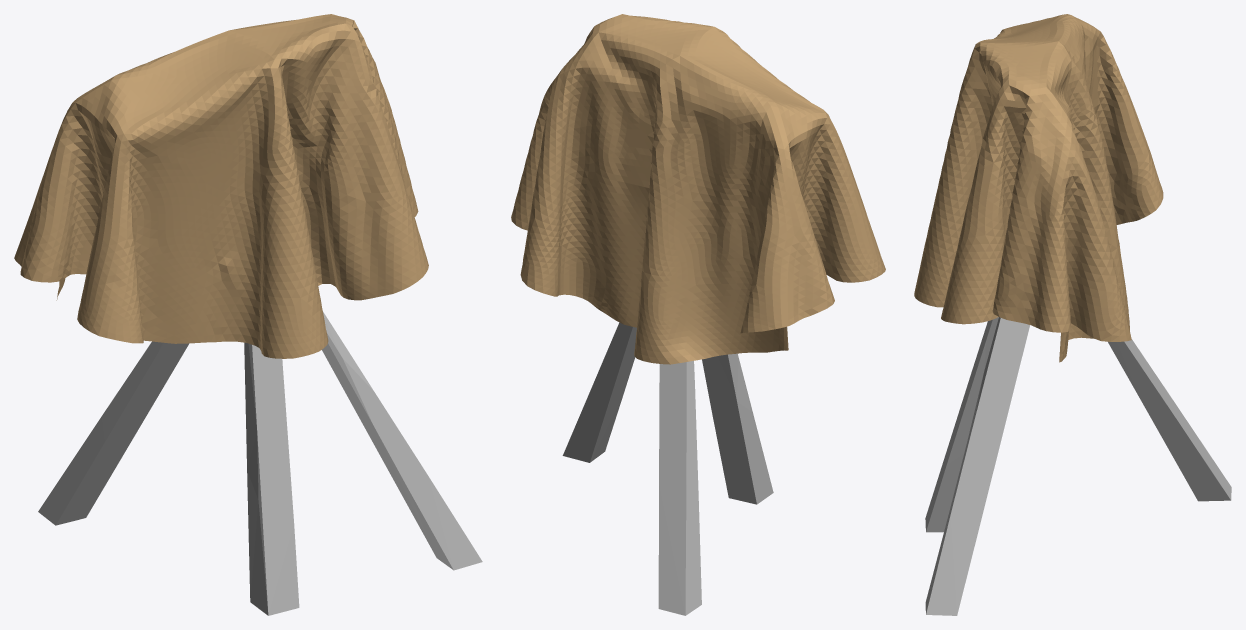
File: level_2.glb
3 views of the same model, side by side, from view 1: azimuth 30°, elevation 25°; view 2: azimuth 150°, elevation 25°; view 3: azimuth 270°, elevation 25° (orthographic). The views are drawn at different scales.
Parts seen in each view (by area): view 1: world, object.obj; view 2: world, object.obj; view 3: world, object.obj.
Part boxes in pixels (x1,y1,x2,y2): world: [14, 14, 428, 358]; object.obj: [38, 312, 482, 615]; world: [511, 14, 885, 364]; object.obj: [562, 322, 773, 615]; world: [914, 14, 1163, 362]; object.obj: [925, 317, 1231, 615].
Bounding box in the file's own units: 0.2983 × 0.4066 × 0.2357.
